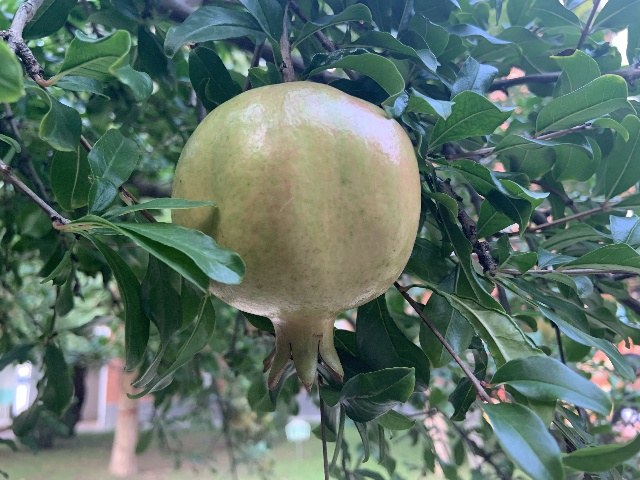mid-growth: (169, 80, 423, 393)
